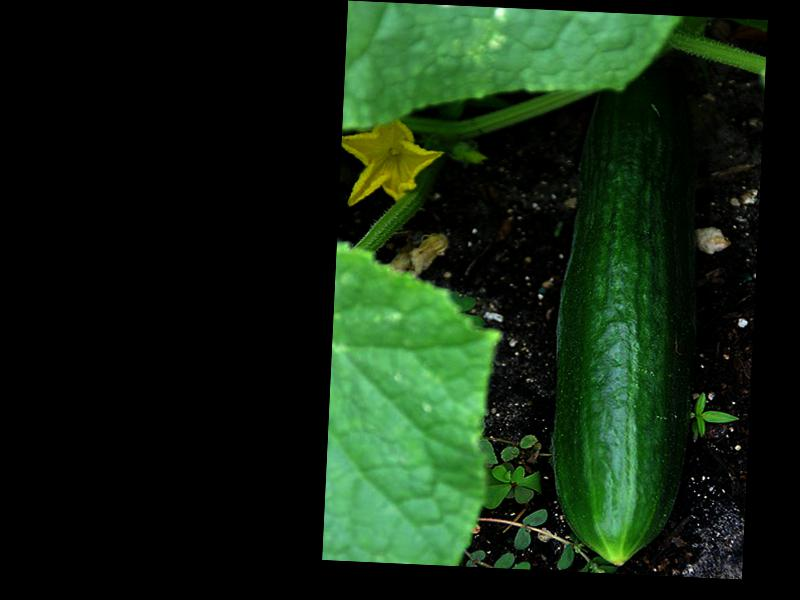Cucumber: (545, 60, 709, 570)
